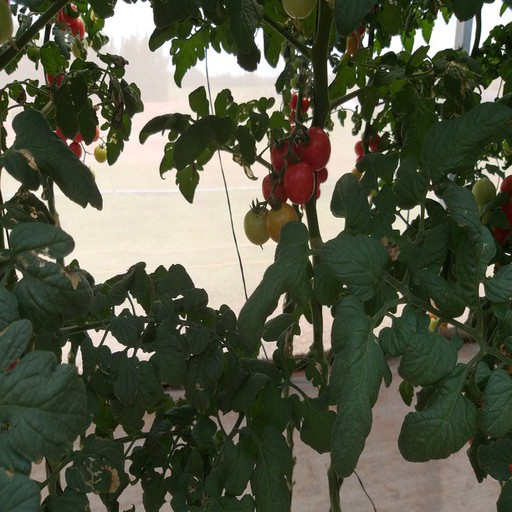mixed tomato bunch: (243, 125, 331, 245)
red tomato bunch: (48, 69, 98, 159), (471, 175, 512, 253), (355, 129, 383, 181), (55, 4, 85, 39), (287, 86, 308, 124)
